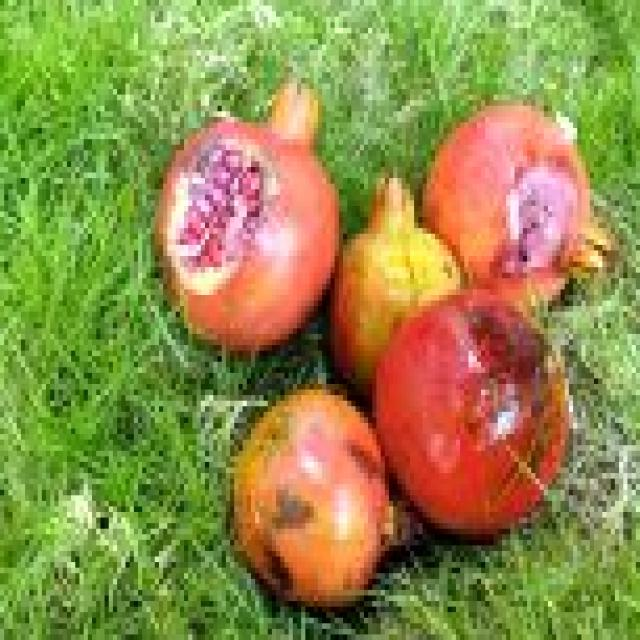Bad_Pomegranate-0-1-day: (151, 78, 594, 612)
